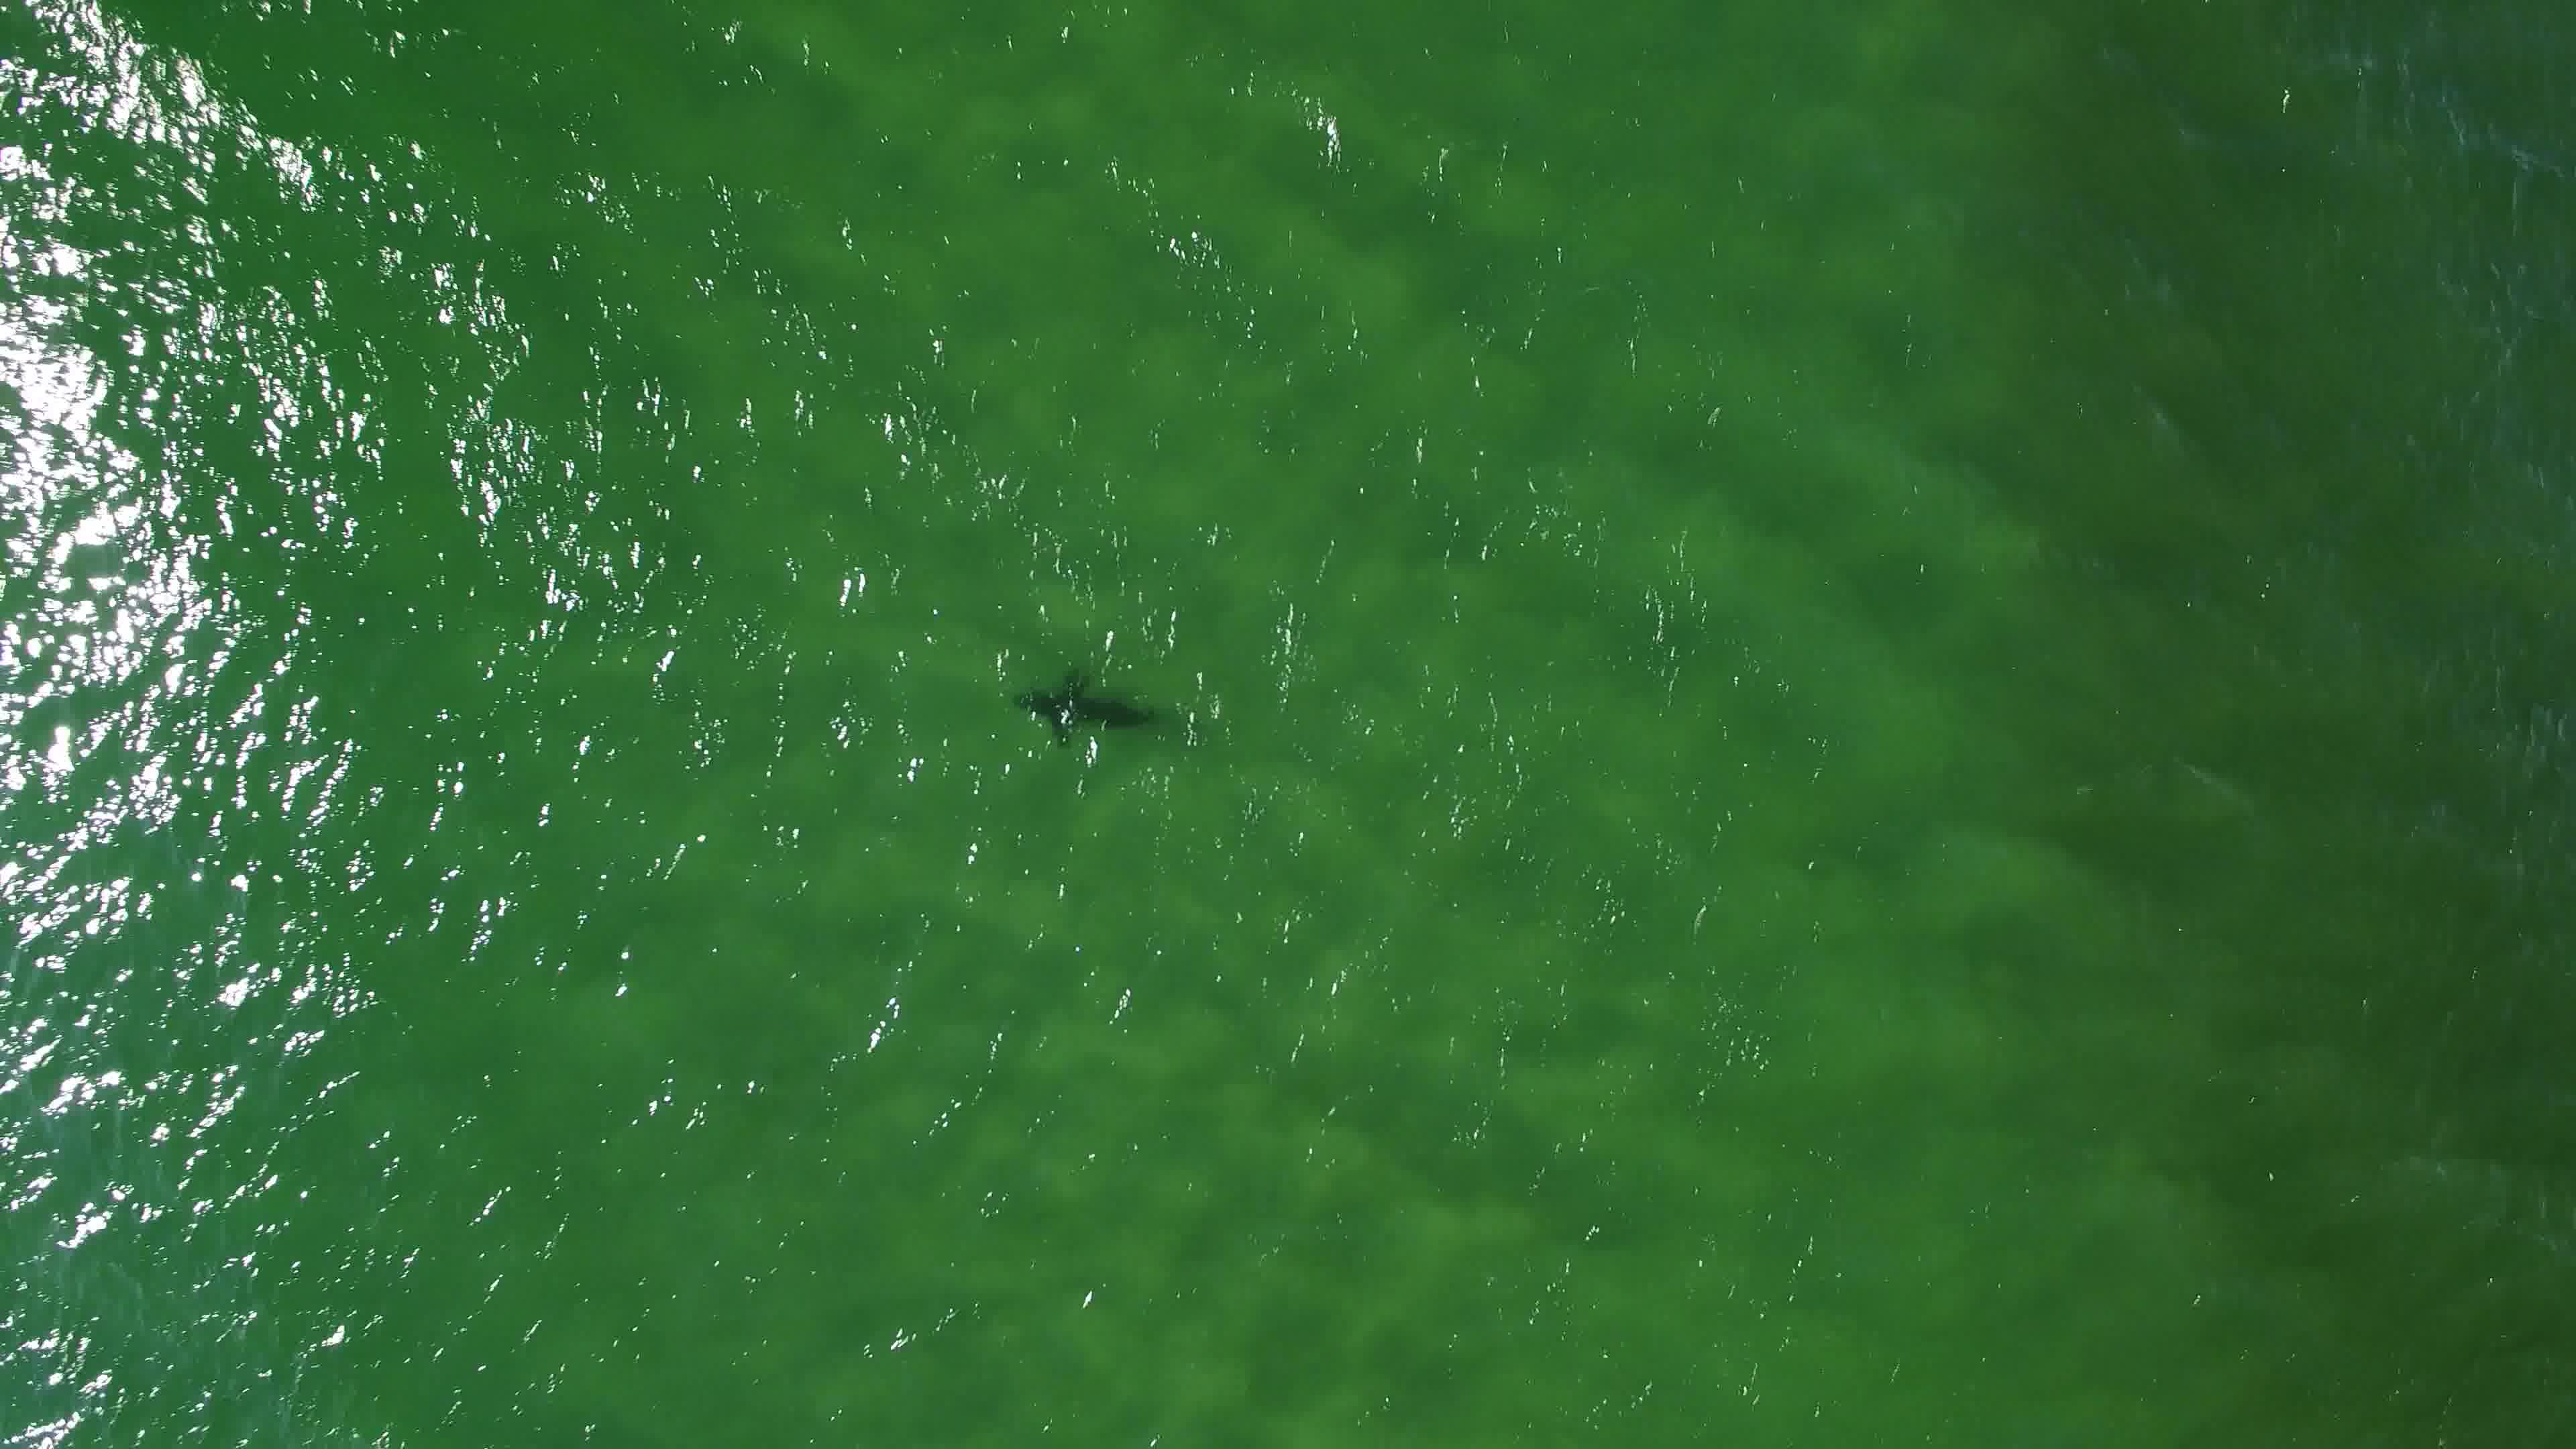shark: (1014, 655, 1155, 754)
